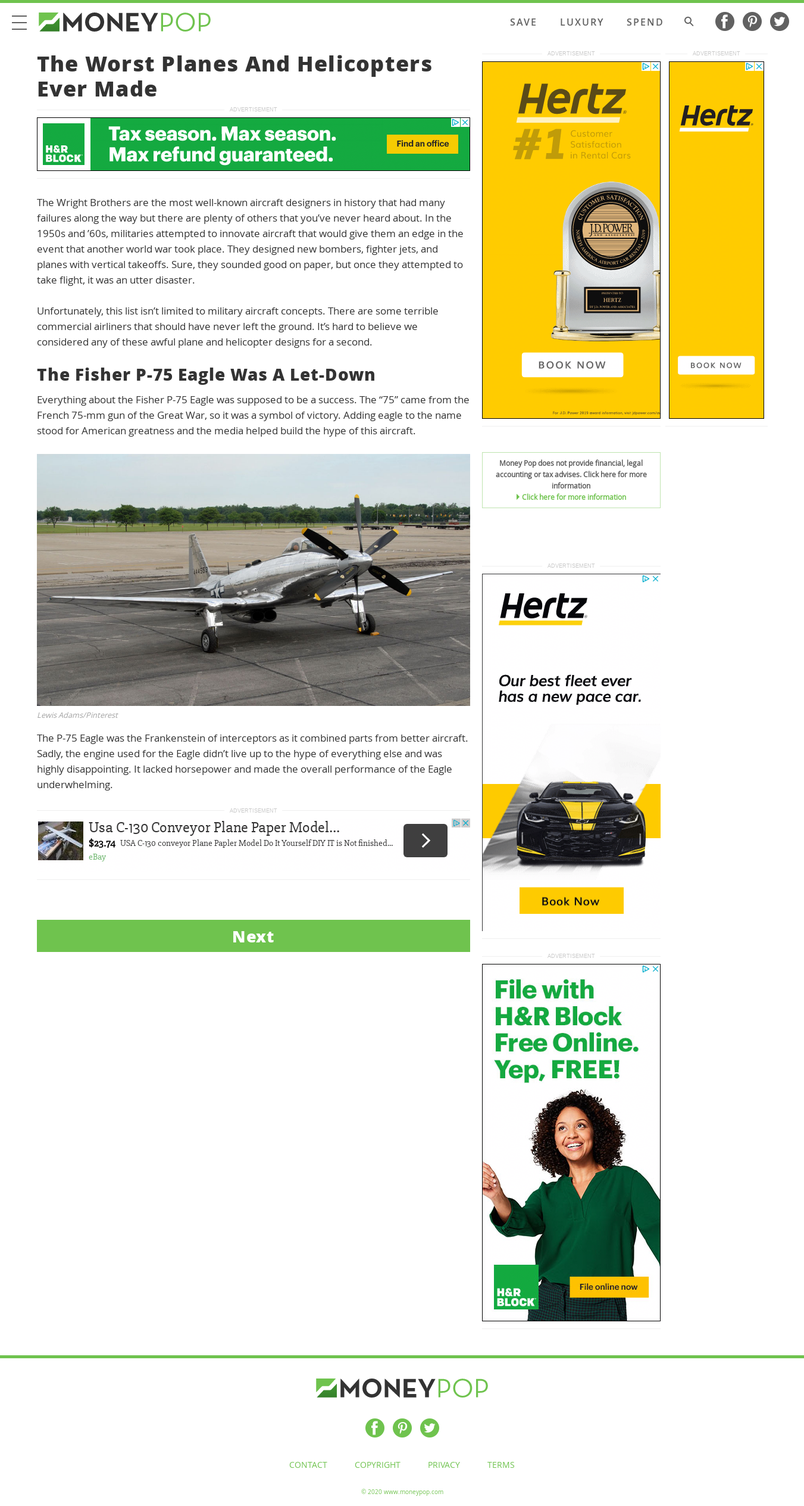fake_button: (31, 912, 485, 959), (375, 128, 465, 158)
